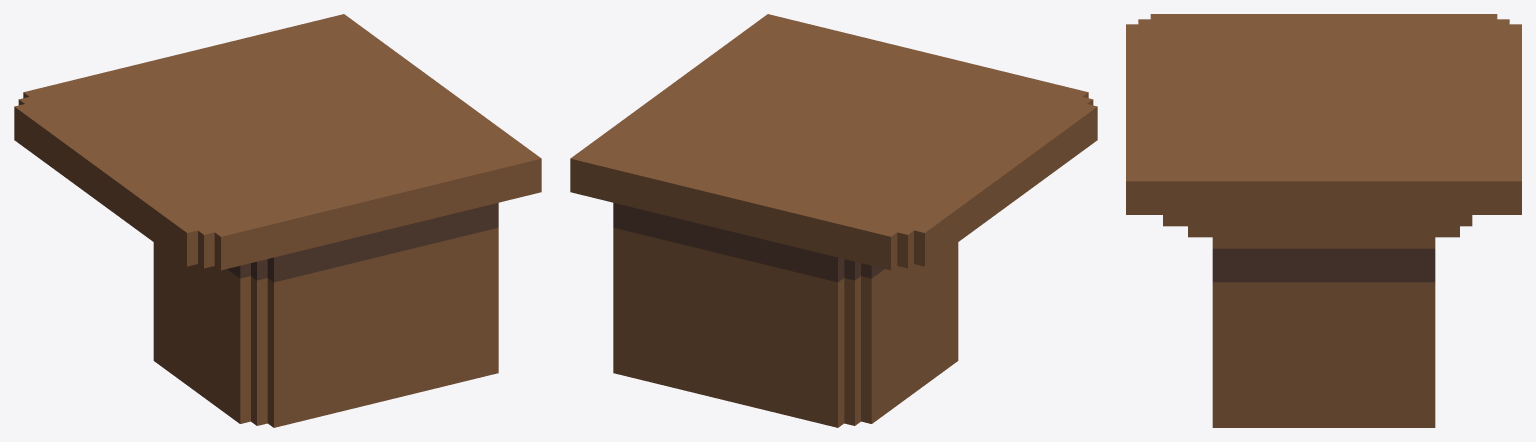
The model's file is Table01.obj.
3 views of the same model, side by side, from view 1: azimuth 30°, elevation 25°; view 2: azimuth 150°, elevation 25°; view 3: azimuth 270°, elevation 25° (orthographic).
Size of the model in its own units: 3.2 by 2.2 by 3.2.
Materials: 1 (1 with a texture image).
